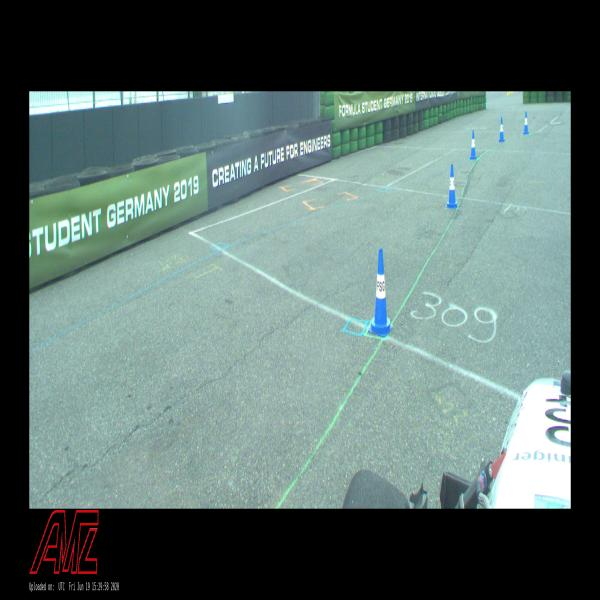blue_cone: (368, 247, 393, 337), (446, 164, 458, 209), (470, 130, 477, 160), (498, 118, 505, 142), (523, 111, 529, 134)
